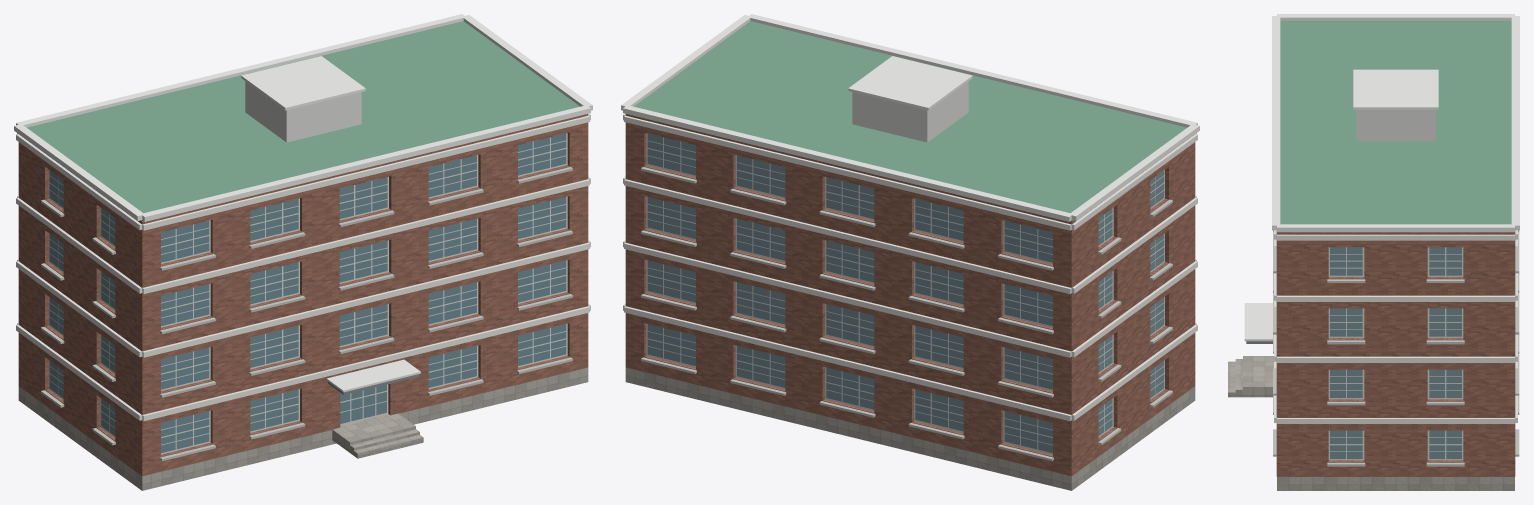
3 renders of one model, left to right at view 1: azimuth 30°, elevation 25°; view 2: azimuth 150°, elevation 25°; view 3: azimuth 270°, elevation 25°, orthographic. The views are drawn at different scales.
Parts seen in each view (by area): view 1: east-wing__brick, east-wing__roof, east-wing__glass, east-wing__band, east-wing__cap, east-wing__frame, east-wing__stone, east-wing__sill, east-wing__panel, east-wing__sideglass, east-wing__stair-front, east-wing__threshold-front; view 2: east-wing__brick, east-wing__roof, east-wing__sideglass, east-wing__band, east-wing__cap, east-wing__frame, east-wing__stone, east-wing__sill, east-wing__panel; view 3: east-wing__brick, east-wing__roof, east-wing__cap, east-wing__sideglass, east-wing__band, east-wing__stone, east-wing__frame, east-wing__sill, east-wing__panel, east-wing__threshold-front, east-wing__stair-front.
Part boxes in pixels (left/top/right/bottom): east-wing__brick: left=18, top=114, right=588, bottom=476; east-wing__roof: left=27, top=21, right=579, bottom=221; east-wing__glass: left=161, top=133, right=566, bottom=453; east-wing__band: left=16, top=113, right=590, bottom=420; east-wing__cap: left=14, top=14, right=592, bottom=392; east-wing__frame: left=49, top=133, right=567, bottom=454; east-wing__stone: left=18, top=367, right=588, bottom=490; east-wing__sill: left=41, top=167, right=572, bottom=461; east-wing__panel: left=245, top=81, right=361, bottom=142; east-wing__sideglass: left=49, top=170, right=115, bottom=435; east-wing__stair-front: left=346, top=423, right=423, bottom=458; east-wing__threshold-front: left=332, top=413, right=411, bottom=449; east-wing__brick: left=625, top=114, right=1195, bottom=476; east-wing__roof: left=634, top=21, right=1186, bottom=221; east-wing__sideglass: left=647, top=133, right=1164, bottom=453; east-wing__band: left=623, top=113, right=1197, bottom=420; east-wing__cap: left=621, top=14, right=1199, bottom=221; east-wing__frame: left=646, top=133, right=1164, bottom=454; east-wing__stone: left=625, top=367, right=1195, bottom=490; east-wing__sill: left=641, top=167, right=1172, bottom=461; east-wing__panel: left=852, top=81, right=968, bottom=142; east-wing__brick: left=1276, top=230, right=1515, bottom=476; east-wing__roof: left=1280, top=20, right=1511, bottom=224; east-wing__cap: left=1244, top=14, right=1519, bottom=341; east-wing__sideglass: left=1330, top=247, right=1461, bottom=458; east-wing__band: left=1274, top=230, right=1517, bottom=423; east-wing__stone: left=1277, top=477, right=1514, bottom=490; east-wing__frame: left=1328, top=247, right=1463, bottom=460; east-wing__sill: left=1273, top=230, right=1519, bottom=466; east-wing__panel: left=1356, top=110, right=1435, bottom=141; east-wing__threshold-front: left=1250, top=356, right=1273, bottom=397; east-wing__stair-front: left=1228, top=356, right=1250, bottom=397.
Bounding box in the file's own units: 25.5 × 16.56 × 14.72.
Materials: 12 (2 with a texture image).
